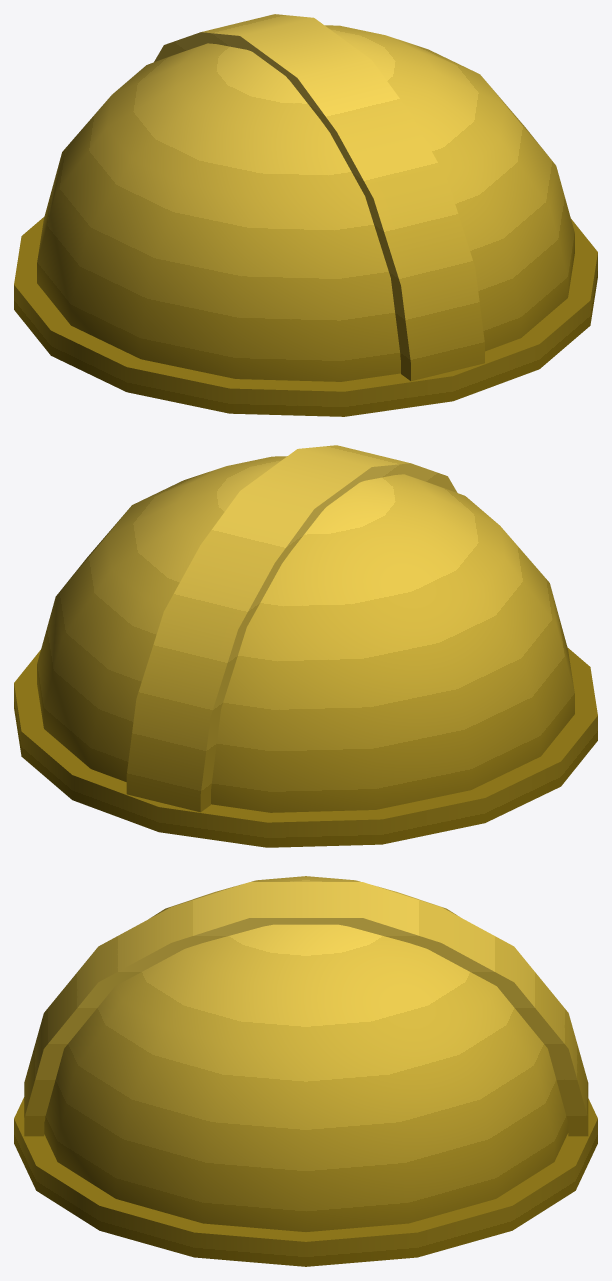
The model's file is worker-hat.fbx.
The picture shows the model from 3 angles, top to bottom: view 1: azimuth 30°, elevation 25°; view 2: azimuth 150°, elevation 25°; view 3: azimuth 270°, elevation 25°; orthographic projection.
Visible parts, largest first — view 1: Cylinder.006; view 2: Cylinder.006; view 3: Cylinder.006.
Boxes of the visible parts, x1,y1,x2,y2 form: Cylinder.006: (14,14,597,416); Cylinder.006: (14,445,597,847); Cylinder.006: (14,876,597,1266).
Bounding box in the file's own units: 134 × 61.5 × 134.
